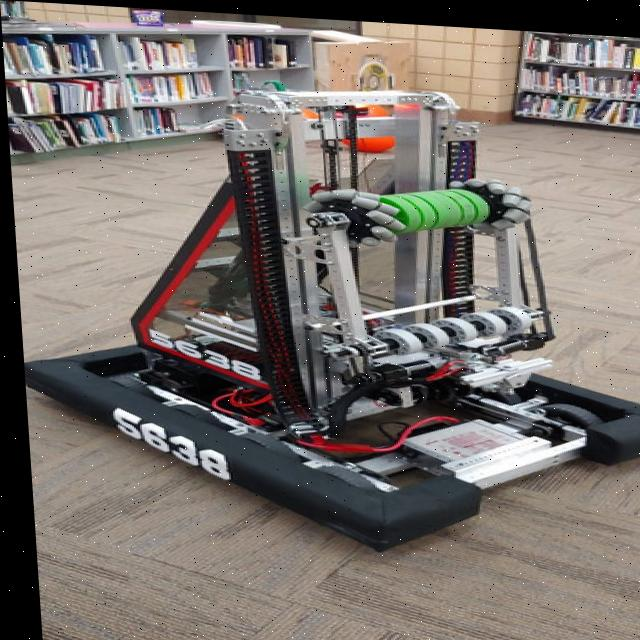robot: (7, 67, 640, 559)
